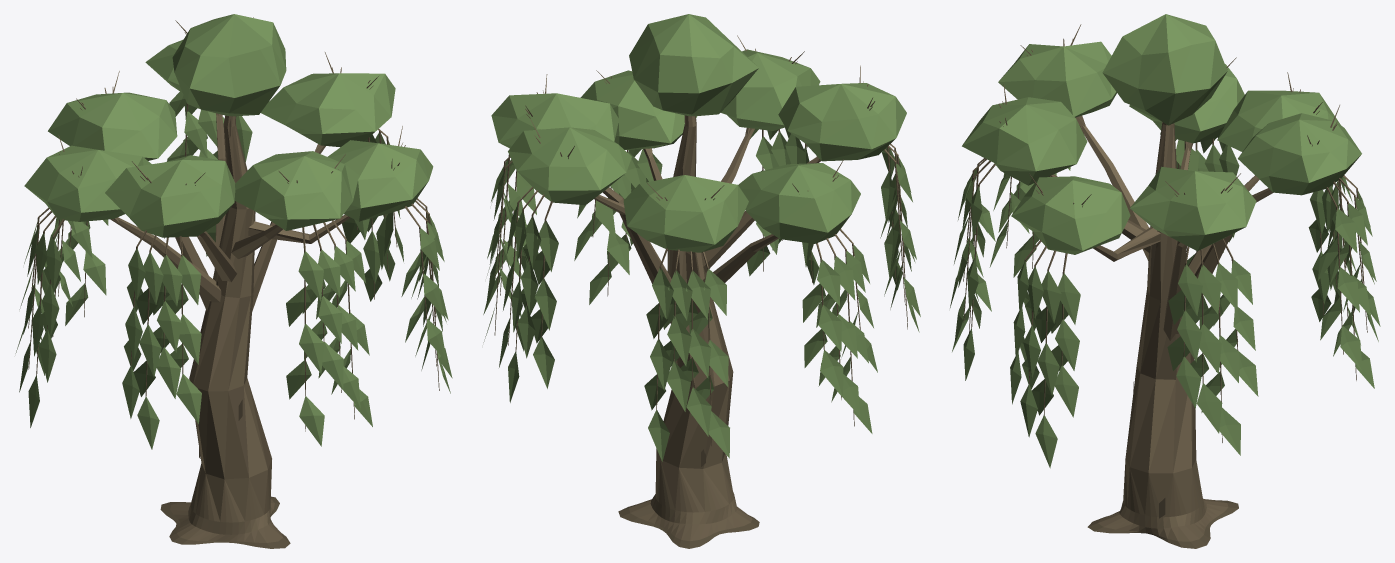
Rendered from willow_summer.glb.
3 views of the same model, side by side, from view 1: azimuth 30°, elevation 25°; view 2: azimuth 150°, elevation 25°; view 3: azimuth 270°, elevation 25° (orthographic).
Visible parts, largest first — view 1: leaves, branches; view 2: leaves, branches; view 3: leaves, branches.
Part boxes in pixels (box(x1,y1,x2,y2)): leaves: box(15, 14, 452, 449); branches: box(28, 17, 439, 548); leaves: box(483, 14, 920, 461); branches: box(494, 35, 907, 548); leaves: box(950, 14, 1380, 468); branches: box(963, 24, 1367, 548).
Bounding box in the file's own units: 3.6 × 4.6 × 3.54.
